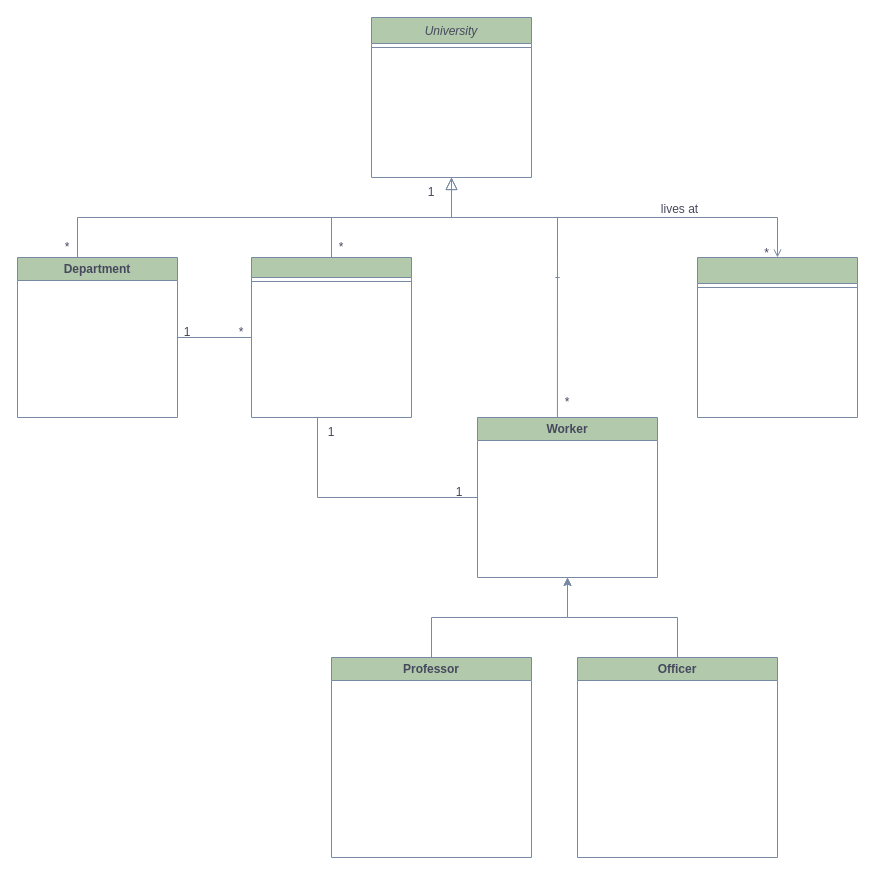
This 875x875 diagram has some shape labels left out. The shapes that lost their labels are listed below. From the top down, each one's centre as x and y in pixels, then its label:
At (x=331, y=337): "Work Office".
At (x=777, y=337): "Class Room".
